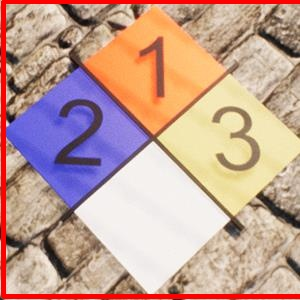nfpa: (3, 1, 300, 296)
